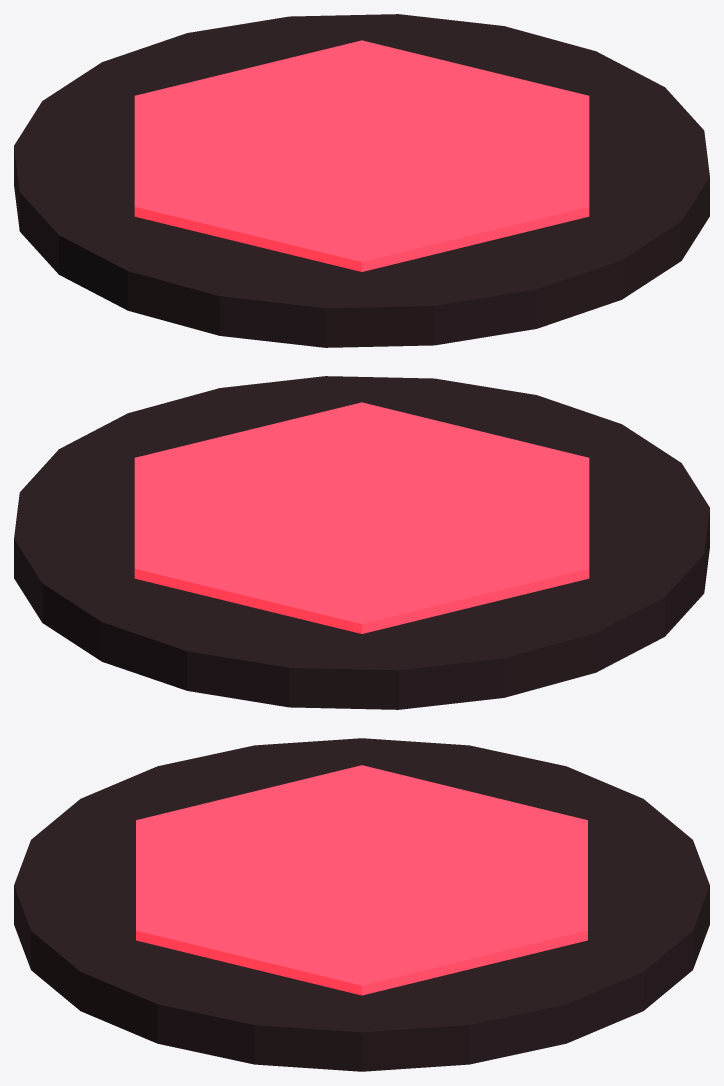
Rendered from prop_boss_mark.glb.
3 renders of one model, top to bottom at view 1: azimuth 30°, elevation 25°; view 2: azimuth 150°, elevation 25°; view 3: azimuth 270°, elevation 25°, orthographic.
Visible parts, largest first — view 1: disc, glyph; view 2: disc, glyph; view 3: disc, glyph.
Boxes of the visible parts, x1,y1,x2,y2 form: disc: (14, 14, 709, 347); glyph: (134, 40, 589, 271); disc: (14, 376, 709, 709); glyph: (134, 402, 589, 633); disc: (14, 738, 709, 1071); glyph: (136, 765, 587, 995).
Size of the model in its own units: 0.96 by 0.075 by 0.96.
